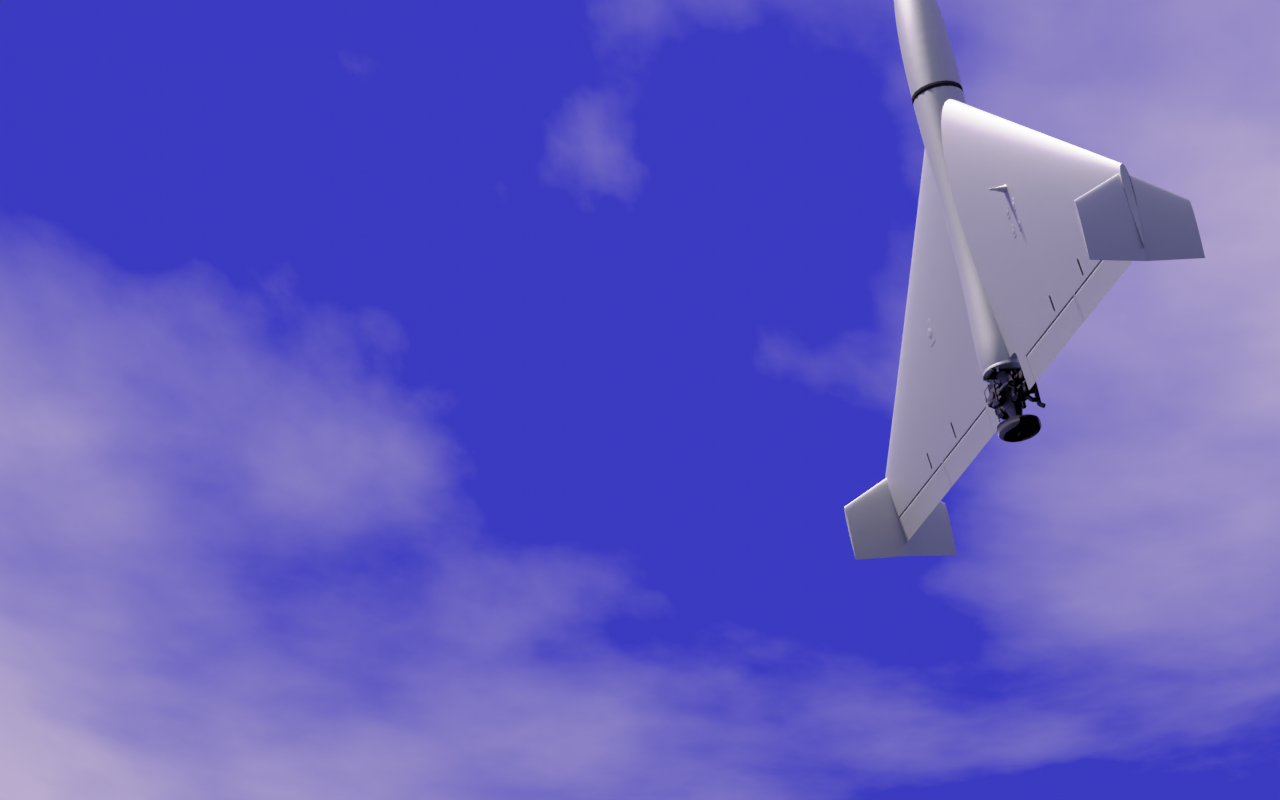shahed: (844, 1, 1207, 562)
